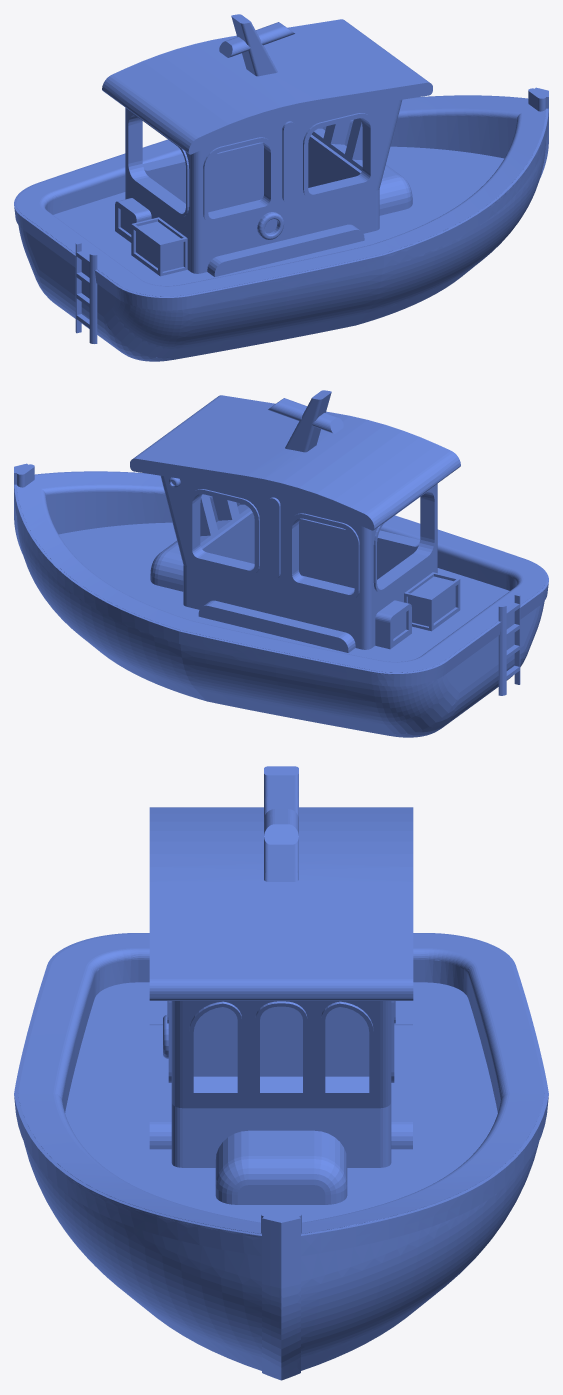
File: service_boat.dae
3 renders of one model, top to bottom at view 1: azimuth 30°, elevation 25°; view 2: azimuth 150°, elevation 25°; view 3: azimuth 270°, elevation 25°, orthographic. The views are drawn at different scales.
Parts seen in each view (by area): view 1: Boat; view 2: Boat; view 3: Boat.
Part boxes in pixels (x1,y1,x2,y2): Boat: (14,14,548,361); Boat: (14,390,548,737); Boat: (14,766,548,1380).
Size of the model in its own units: 3.86 by 2.44 by 2.12.
